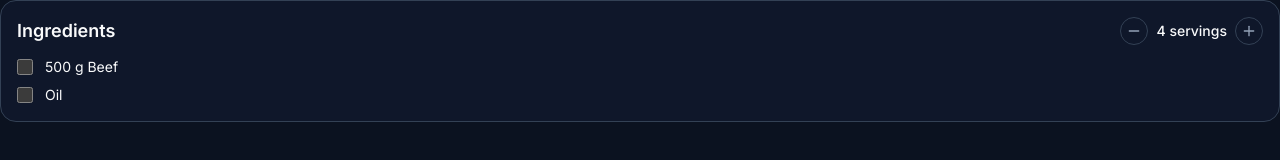
IngredientList servings scaling › scales quantities up when servings are increased
Click the button named "Increase servings" at (1249, 31), box left=1235, top=17, right=1263, bottom=45
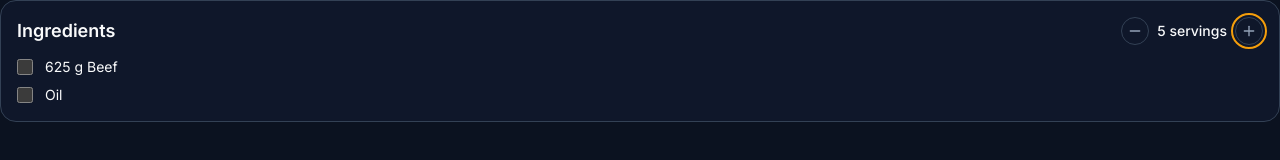
Click the button named "Increase servings" at (1249, 31), box left=1235, top=17, right=1263, bottom=45
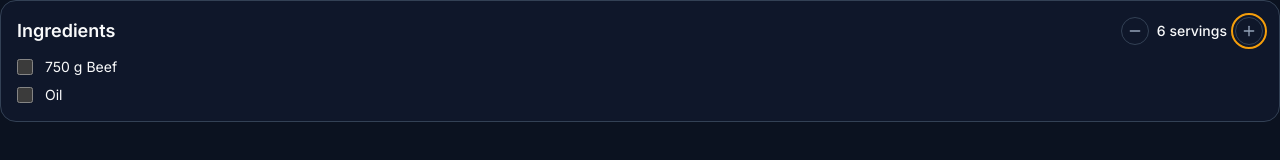
Expected: the text "750 g Beef" is shown, left=45, top=57, right=117, bottom=77
